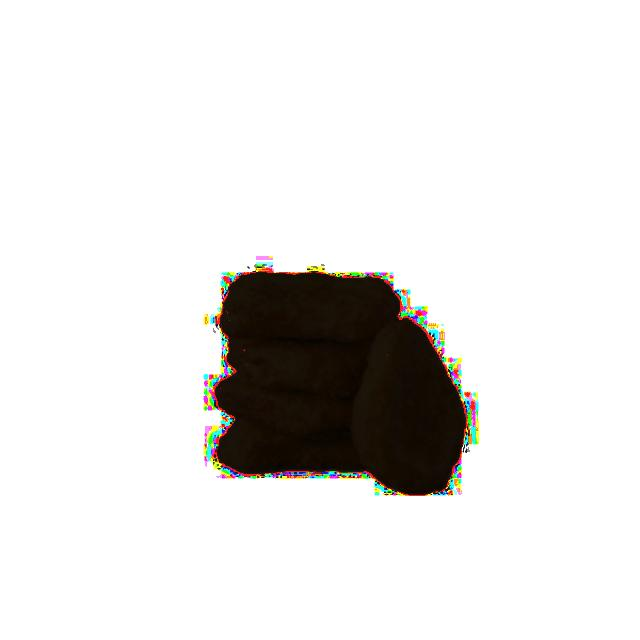chicken_nuggets: (344, 317, 472, 495), (214, 272, 408, 348), (214, 332, 382, 400), (204, 417, 378, 480), (208, 374, 372, 438)
